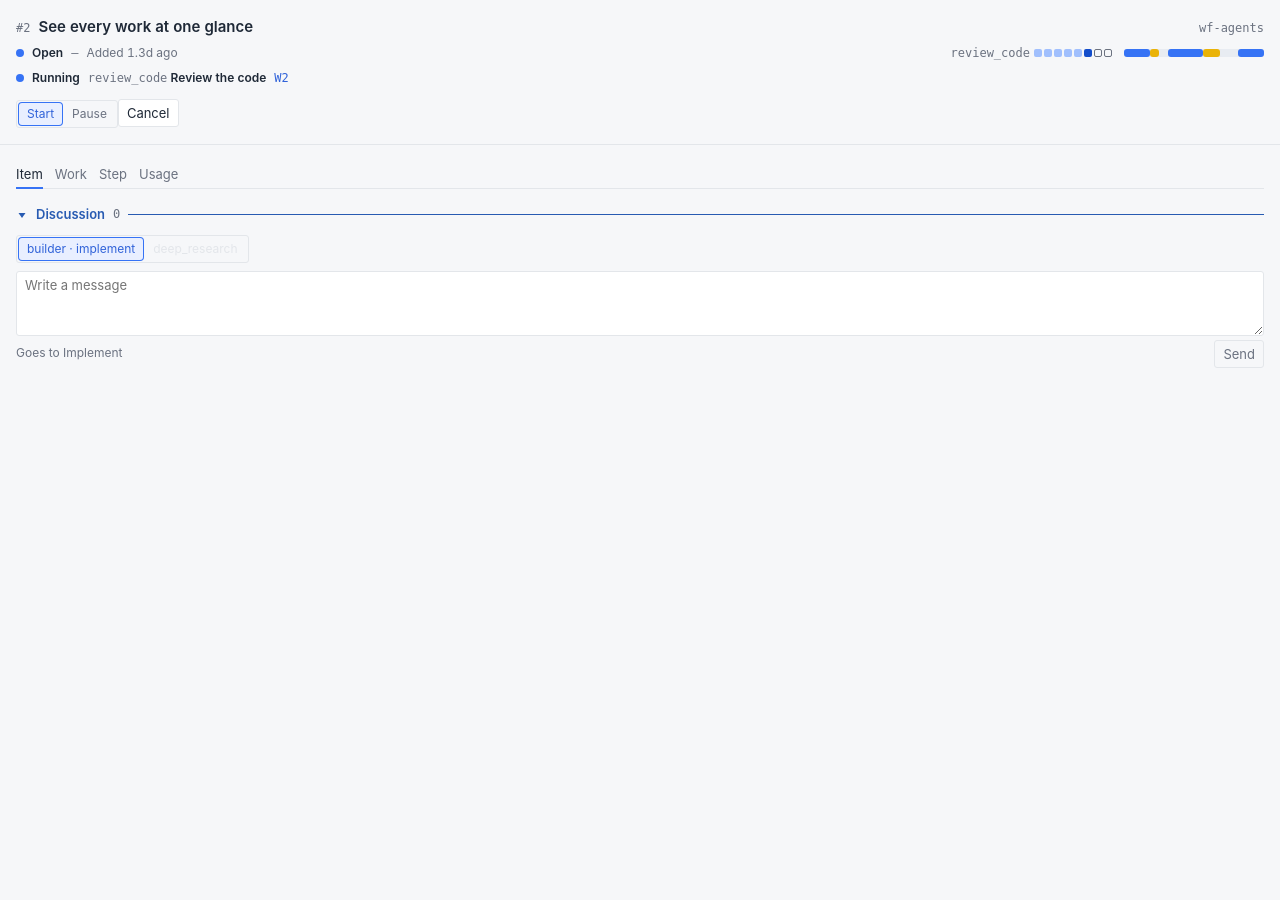
Test: the panel of the item selected › pauses a work that goes on, starts one that is paused, and cancels one once the owner confirms and says why
Later steps or results of the test are not shown.
Click the button "Pause": {"x": 90, "y": 114} [64,103,115,125]
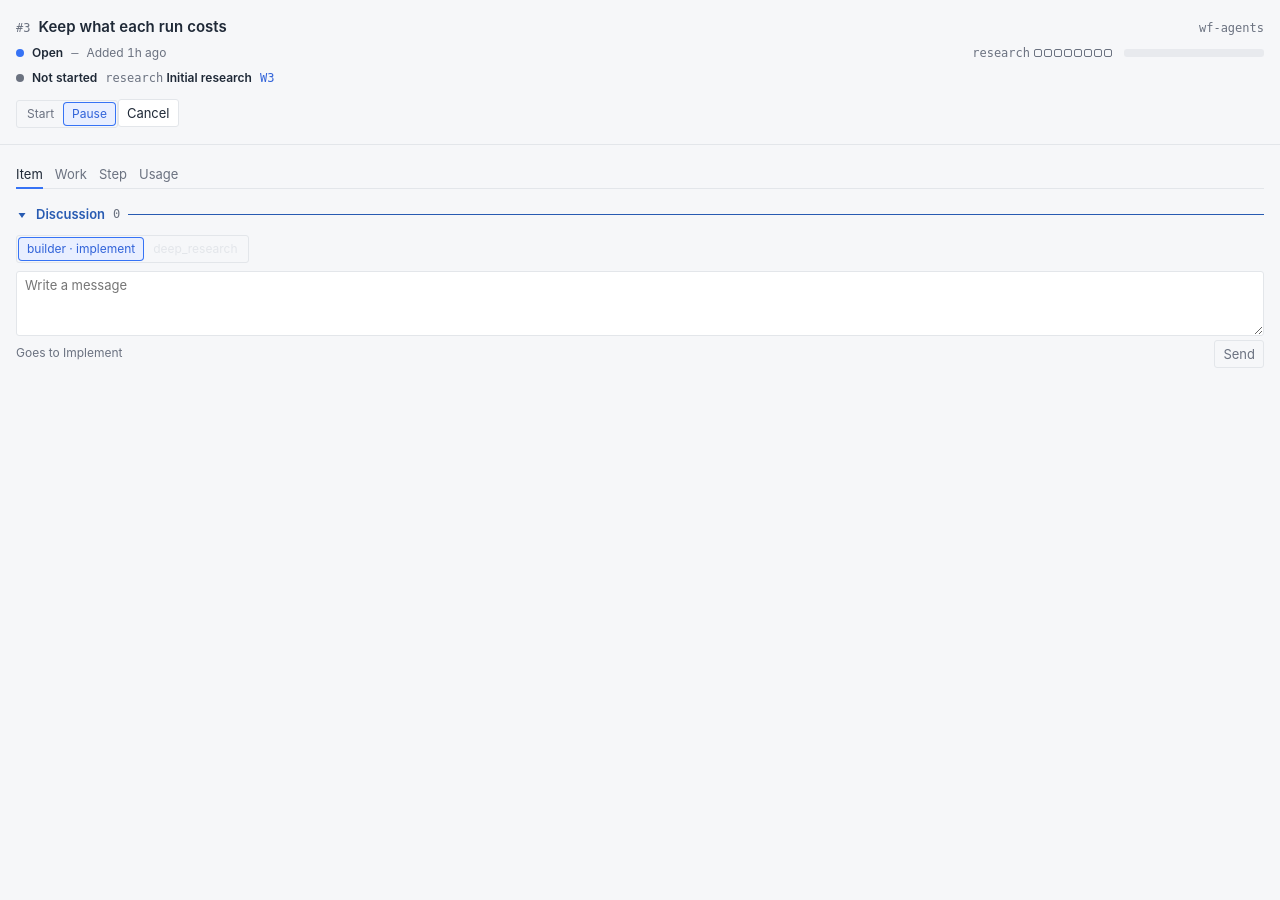
Click the button "Pause": {"x": 90, "y": 114} [64,103,115,125]
Click the button "Start": {"x": 41, "y": 114} [19,103,62,125]
Click the button "Cancel": {"x": 148, "y": 113} [118,99,178,127]
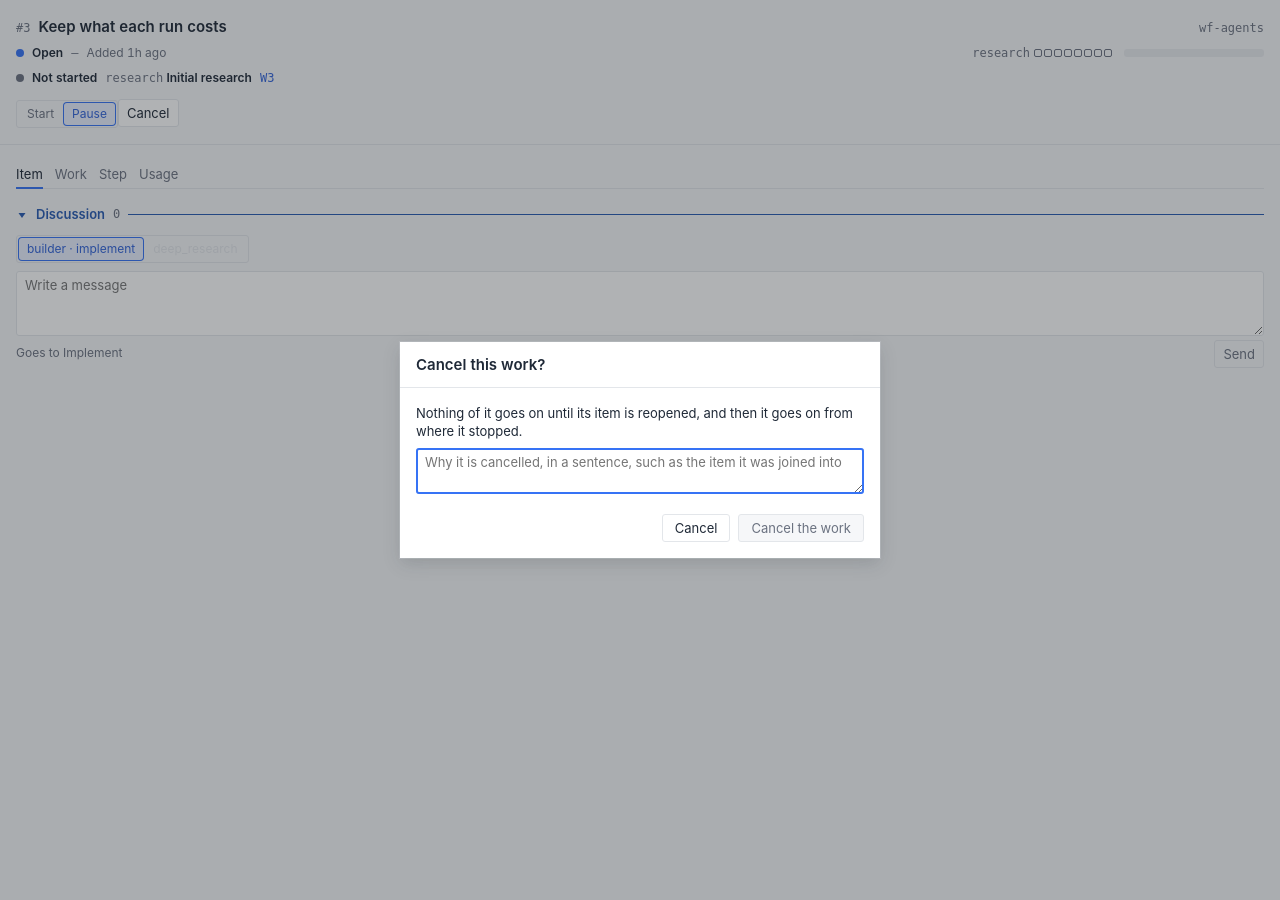
Click the button "Cancel" below "Cancel this work?": {"x": 696, "y": 528} [662,514,730,542]
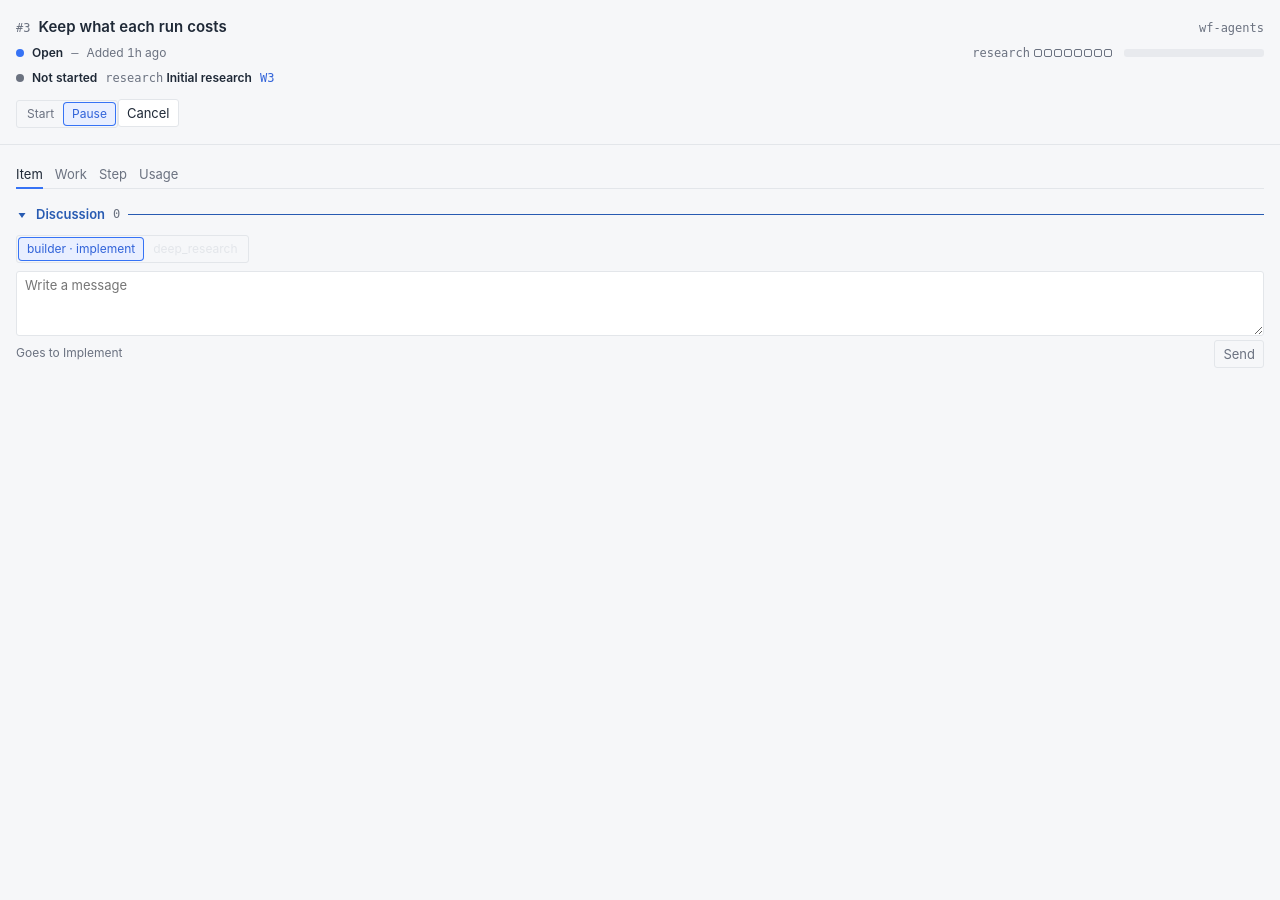
Now the dialog is gone
Click the button "Cancel": {"x": 148, "y": 113} [118,99,178,127]
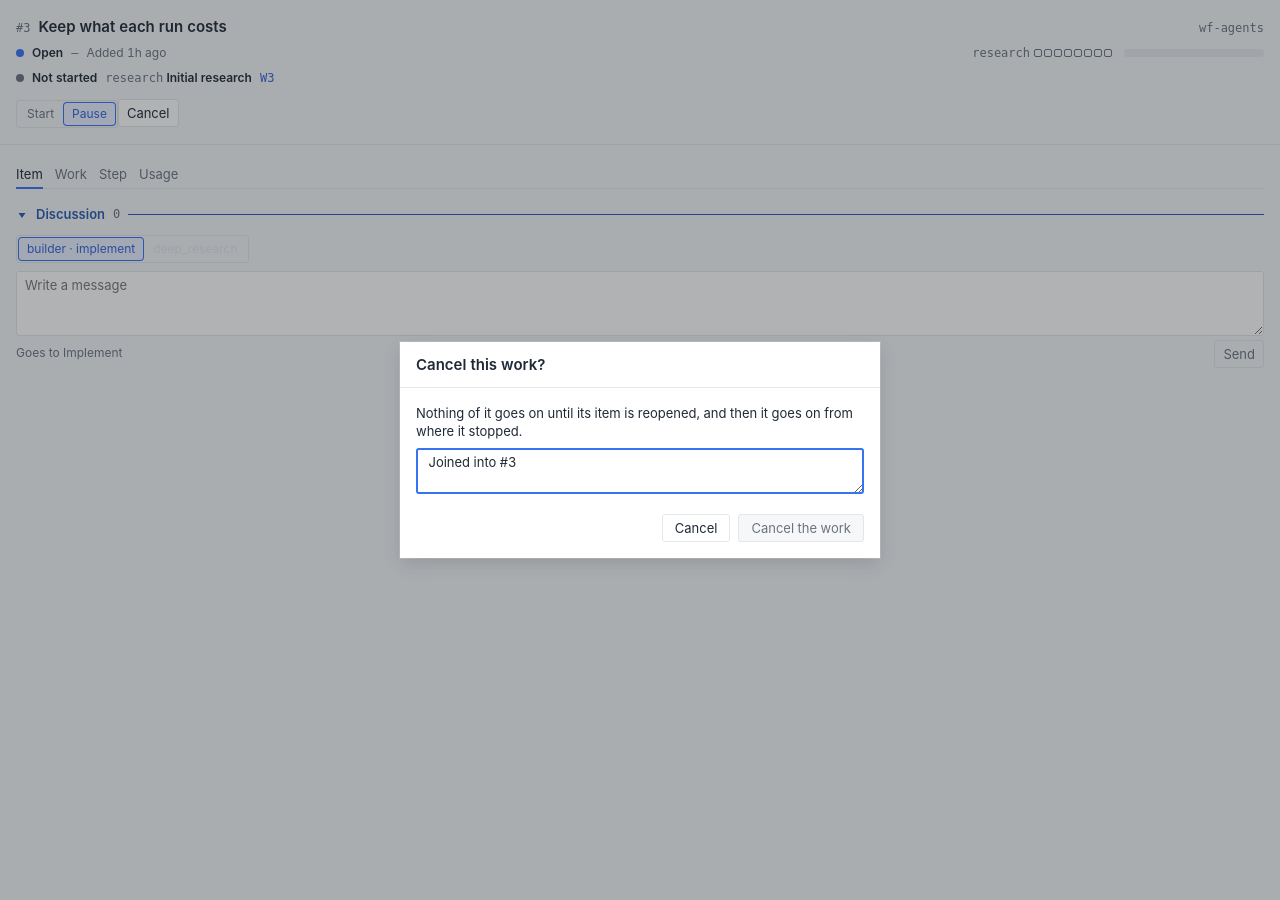
Now the button "Cancel the work" is disabled, box [738,514,864,542]
